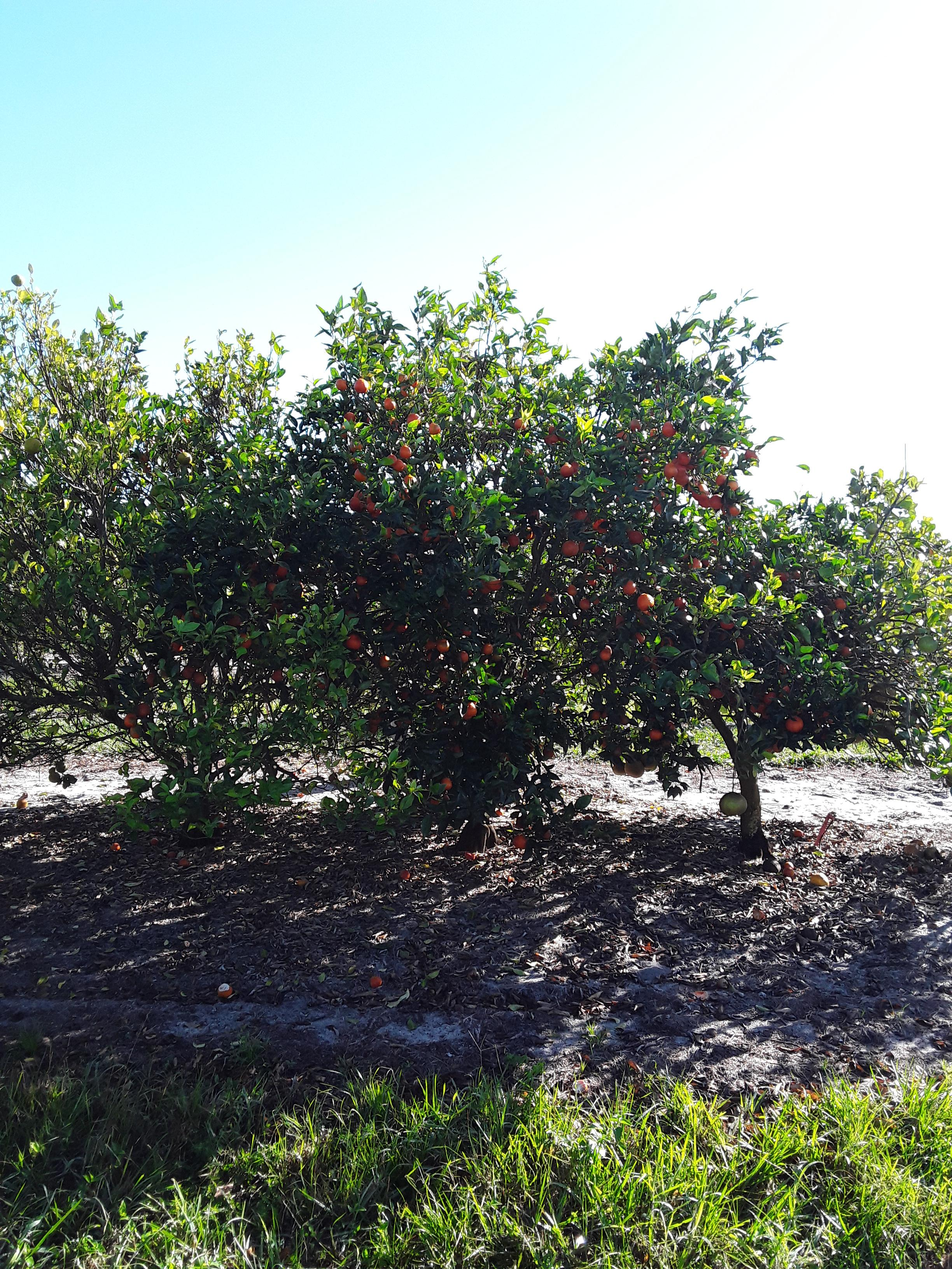fruit_on_ground: (719, 789, 748, 816), (916, 632, 939, 654), (783, 712, 805, 734), (20, 435, 43, 456), (625, 756, 646, 778), (343, 631, 364, 652), (233, 633, 255, 652), (761, 738, 782, 757), (560, 539, 581, 558), (814, 706, 834, 725), (830, 594, 850, 613), (459, 701, 478, 721), (625, 527, 645, 546), (188, 604, 209, 622), (399, 477, 418, 496), (443, 500, 462, 519), (175, 447, 194, 466), (244, 557, 264, 575), (691, 482, 711, 500), (642, 753, 662, 771), (707, 683, 727, 701), (649, 498, 668, 516), (366, 502, 385, 520), (695, 442, 714, 460), (391, 618, 410, 636), (476, 577, 494, 596), (635, 593, 654, 611), (352, 377, 371, 395), (610, 756, 627, 776), (762, 689, 782, 706), (488, 711, 508, 728), (716, 614, 736, 631), (224, 612, 244, 629), (590, 516, 610, 533), (663, 460, 679, 481), (673, 468, 691, 486), (270, 666, 288, 684), (374, 653, 392, 671), (647, 725, 665, 743), (741, 446, 760, 463), (624, 416, 643, 433), (570, 506, 589, 523), (379, 617, 398, 634), (350, 488, 369, 505), (613, 428, 630, 446), (707, 493, 725, 510), (436, 774, 454, 791), (434, 636, 452, 653), (191, 668, 208, 686), (121, 711, 139, 728), (179, 662, 196, 680), (134, 700, 152, 717), (661, 420, 678, 438), (620, 578, 638, 595), (397, 442, 414, 460), (683, 457, 702, 473), (167, 638, 186, 654), (609, 743, 626, 760), (714, 470, 731, 487), (746, 700, 764, 716), (401, 470, 419, 486), (351, 467, 369, 483), (725, 502, 743, 518), (670, 594, 688, 610), (427, 530, 443, 548), (263, 580, 280, 596), (421, 637, 437, 654), (11, 270, 27, 287), (144, 670, 160, 687), (836, 643, 853, 659), (506, 532, 522, 549), (687, 555, 704, 571), (426, 420, 443, 436), (273, 564, 290, 580), (333, 376, 350, 392), (381, 394, 397, 411), (397, 382, 415, 397), (641, 654, 659, 669), (126, 726, 144, 741), (772, 568, 790, 583), (406, 519, 422, 535), (342, 409, 358, 425), (348, 495, 364, 511), (775, 662, 792, 677), (863, 521, 880, 536), (408, 378, 425, 393), (520, 444, 537, 459), (352, 572, 369, 587), (511, 416, 528, 431), (696, 494, 713, 509), (446, 743, 464, 757), (723, 479, 741, 493), (662, 718, 678, 733), (777, 683, 793, 698), (632, 473, 648, 488), (438, 595, 453, 611), (420, 528, 435, 544), (394, 371, 410, 386), (312, 676, 328, 691), (647, 424, 662, 440), (732, 635, 748, 650), (521, 526, 537, 541), (541, 747, 557, 762), (47, 769, 62, 785), (559, 462, 574, 478), (534, 600, 551, 614), (380, 525, 395, 540), (611, 613, 626, 628), (605, 559, 620, 574), (527, 506, 542, 521), (456, 648, 471, 663), (541, 588, 556, 603), (480, 641, 495, 656), (577, 596, 592, 611), (598, 646, 613, 661), (336, 425, 352, 439), (424, 648, 440, 662), (392, 524, 408, 538), (591, 542, 607, 556), (676, 450, 692, 464), (543, 432, 559, 446), (390, 458, 406, 472), (707, 535, 722, 549), (397, 687, 412, 701), (461, 584, 476, 598), (588, 708, 603, 722), (437, 668, 452, 682), (584, 573, 599, 587), (384, 453, 399, 467), (565, 581, 579, 596), (350, 440, 365, 454), (405, 411, 420, 425), (385, 416, 399, 430), (632, 630, 646, 644), (388, 551, 402, 565), (587, 661, 601, 675), (510, 628, 525, 641), (458, 625, 473, 638), (54, 760, 69, 773), (433, 700, 447, 713), (568, 461, 582, 474), (618, 713, 631, 727), (535, 684, 548, 696)
fruit_on_tree: (214, 981, 236, 1002), (365, 972, 385, 992), (808, 870, 830, 887), (510, 832, 529, 851), (750, 906, 770, 923), (761, 858, 782, 873), (535, 827, 553, 843), (790, 826, 806, 840), (397, 867, 412, 881), (14, 795, 29, 809), (176, 855, 191, 868), (491, 804, 506, 817), (781, 866, 796, 878), (109, 840, 122, 853), (782, 860, 796, 871), (165, 849, 178, 860), (295, 876, 308, 886), (148, 837, 160, 846), (583, 814, 593, 821)
